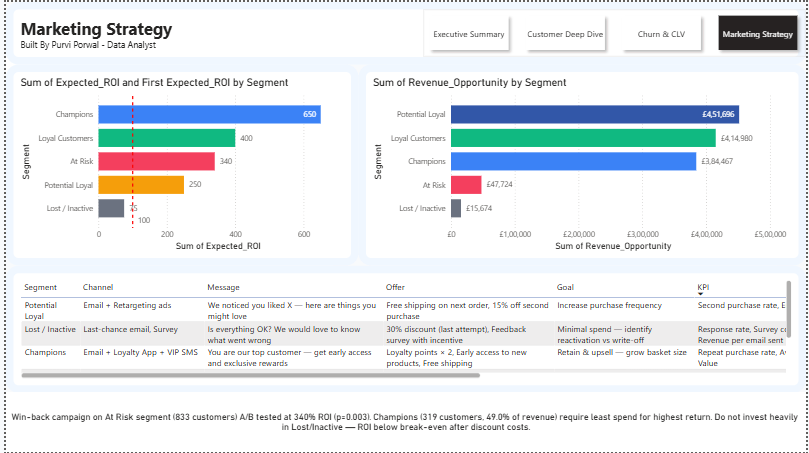

What the dashboard file says about the page in this screenshot:
{"tool":"powerbi","page":{"name":"Marketing Strategy","canvas":[1280,720],"ordinal":3},"visuals":[{"type":"clusteredBarChart","fields":{"Category":["Revenue_Opportunity.Segment"],"Y":["Sum(Revenue_Opportunity.Revenue_Opportunity)"]},"box":[563.8,100,716.2,321.2],"z":0},{"type":"card","fields":{"Values":["Churn_Risk.Total Revenue Opportunity"]},"box":[0,75,293.8,161.2],"z":1000},{"type":"tableEx","fields":{"Values":["Marketing_Strategy.Segment","Marketing_Strategy.Channel","Marketing_Strategy.Message","Marketing_Strategy.Offer","Marketing_Strategy.Goal","Marketing_Strategy.KPI","Marketing_Strategy.Risk","Marketing_Strategy.Budget_Allocation","Marketing_Strategy.Urgency","Marketing_Strategy.Expected_ROI"]},"box":[0,421,1280.1,202.8],"z":2000},{"type":"textbox","box":[0,0,1280,100],"z":3000},{"type":"clusteredBarChart","fields":{"Y":["Sum(ROI comparison bar chart.Expected_ROI)"],"Category":["ROI comparison bar chart.Segment"]},"box":[0,100,563.8,321.2],"z":4000},{"type":"pageNavigator","box":[668.8,12.5,611.2,75],"z":5000},{"type":"card","fields":{"Values":["Churn_Risk.Insight_Page4"]},"box":[0,623.6,1280.3,96.6],"z":6000}]}

Visuals, with their boxes in screenshot pixels (x1, y1, x2, y2), scaled from the page's 1280x720 canvas onto the 809x453 screenshot:
clusteredBarChart - Revenue_Opportunity.Segment x Sum(Revenue_Opportunity.Revenue_Opportunity): x1=356 y1=63 x2=808 y2=265
card - Churn_Risk.Total Revenue Opportunity: x1=0 y1=47 x2=186 y2=149
tableEx - Marketing_Strategy.Segment x Marketing_Strategy.Channel: x1=0 y1=265 x2=808 y2=392
textbox: x1=0 y1=0 x2=808 y2=63
clusteredBarChart - Sum(ROI comparison bar chart.Expected_ROI) x ROI comparison bar chart.Segment: x1=0 y1=63 x2=356 y2=265
pageNavigator: x1=423 y1=8 x2=808 y2=55
card - Churn_Risk.Insight_Page4: x1=0 y1=392 x2=808 y2=452
